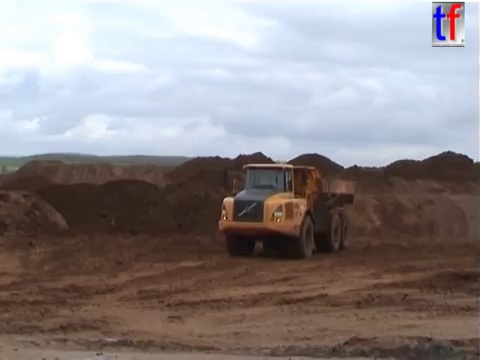truck: (215, 161, 356, 259)
